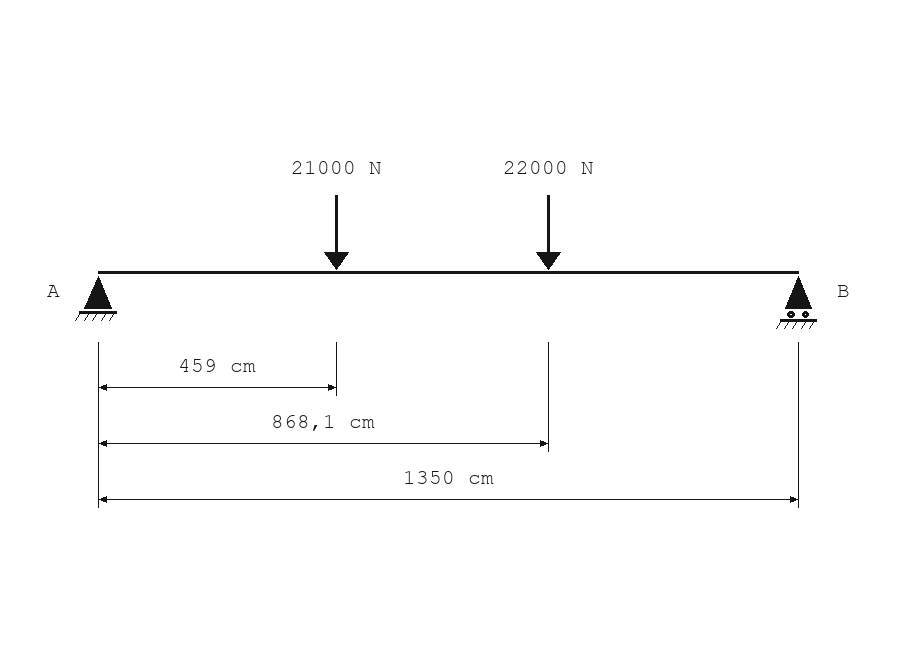pin_support: (75, 276, 117, 321)
point_load: (324, 195, 349, 270), (536, 195, 561, 270)
roller_support: (776, 276, 817, 329)
